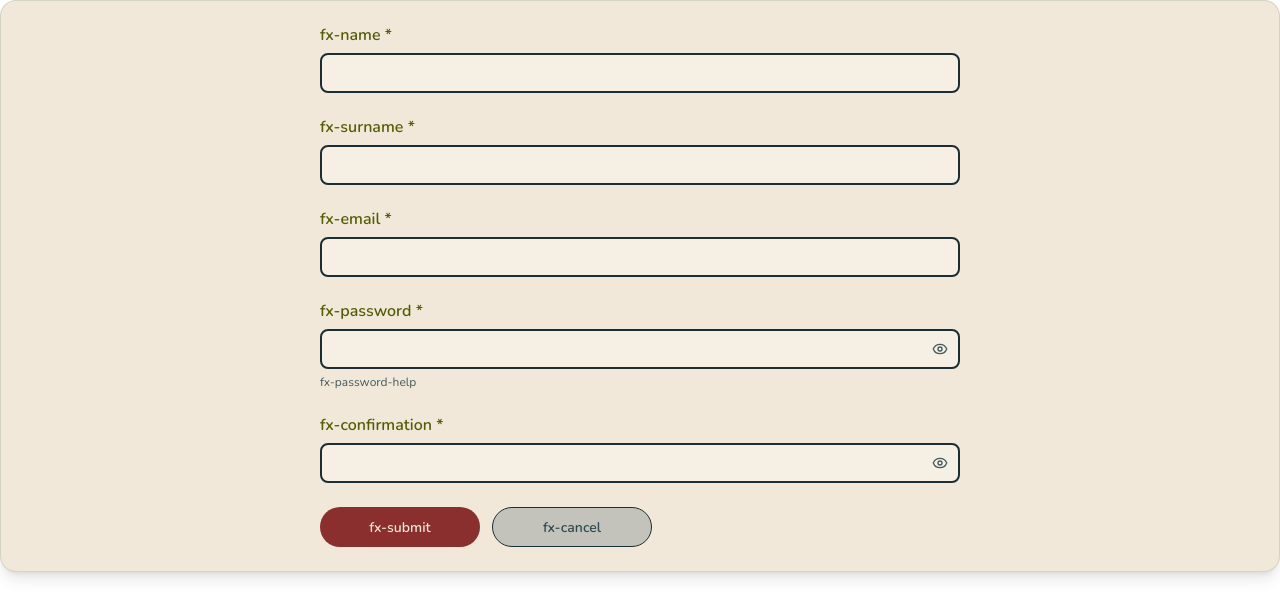
Scenario: RegisterClient — the registration result (sign-in-after-registration design.md D4) › shows the success panel when the 201 carries no token block (spec: The account is created)
This screenshot has width=1280, height=598.
Type "Ana" into the field labelled "fx-name *" at (640, 73), box [320,53,960,93]
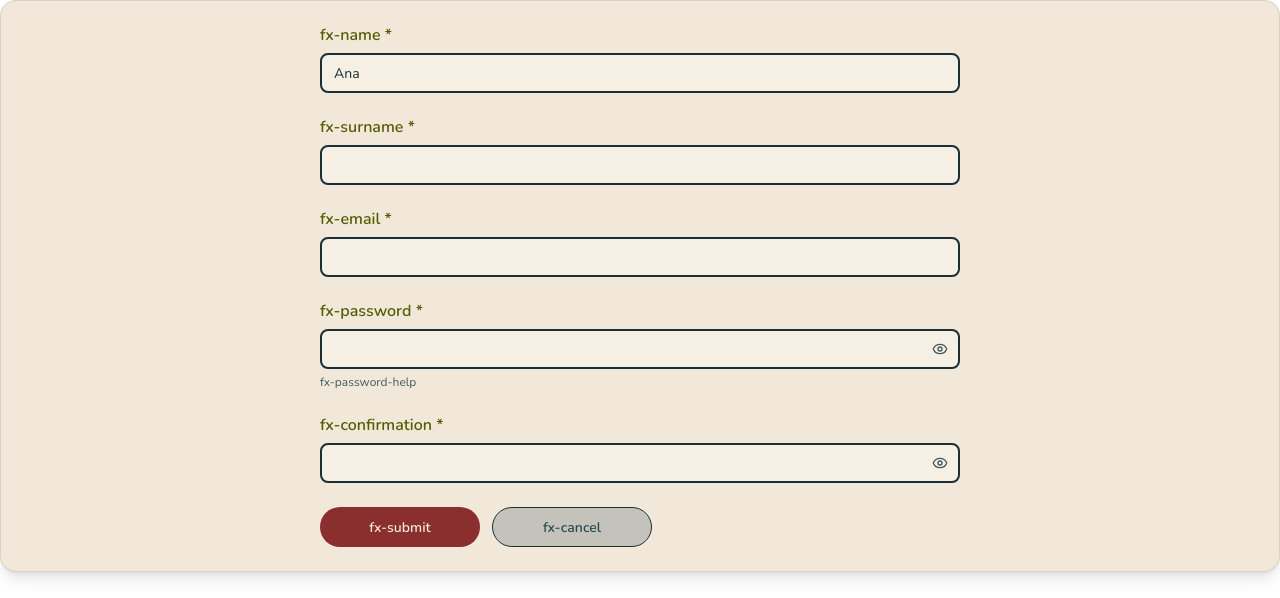
Type "López" into the field labelled "fx-surname *" at (640, 165), box [320,145,960,185]
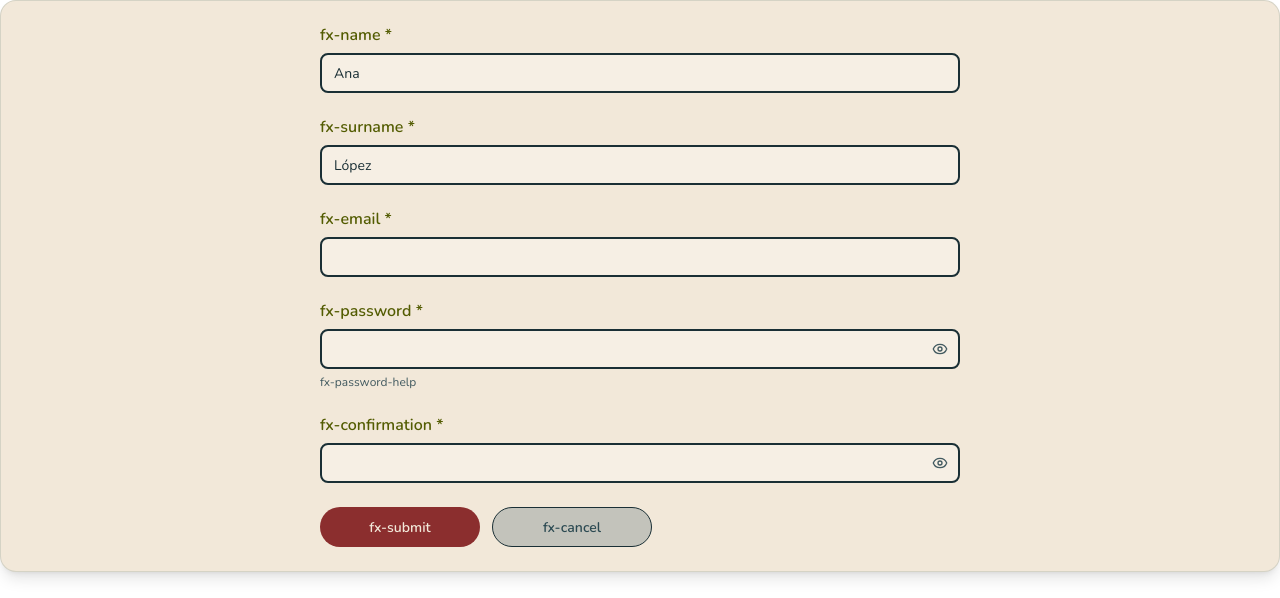
Type "ana@example.com" into the field labelled "fx-email *" at (640, 257), box [320,237,960,277]
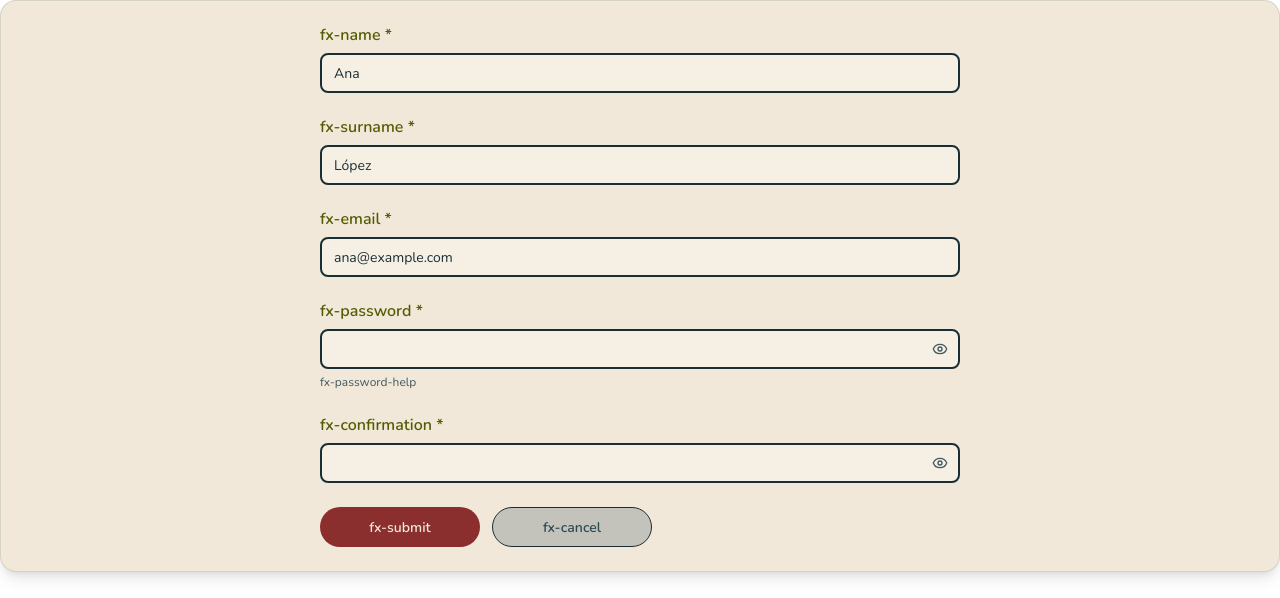
Type "Secret123" into the password field labelled "fx-password *" at (640, 349), box [320,329,960,369]
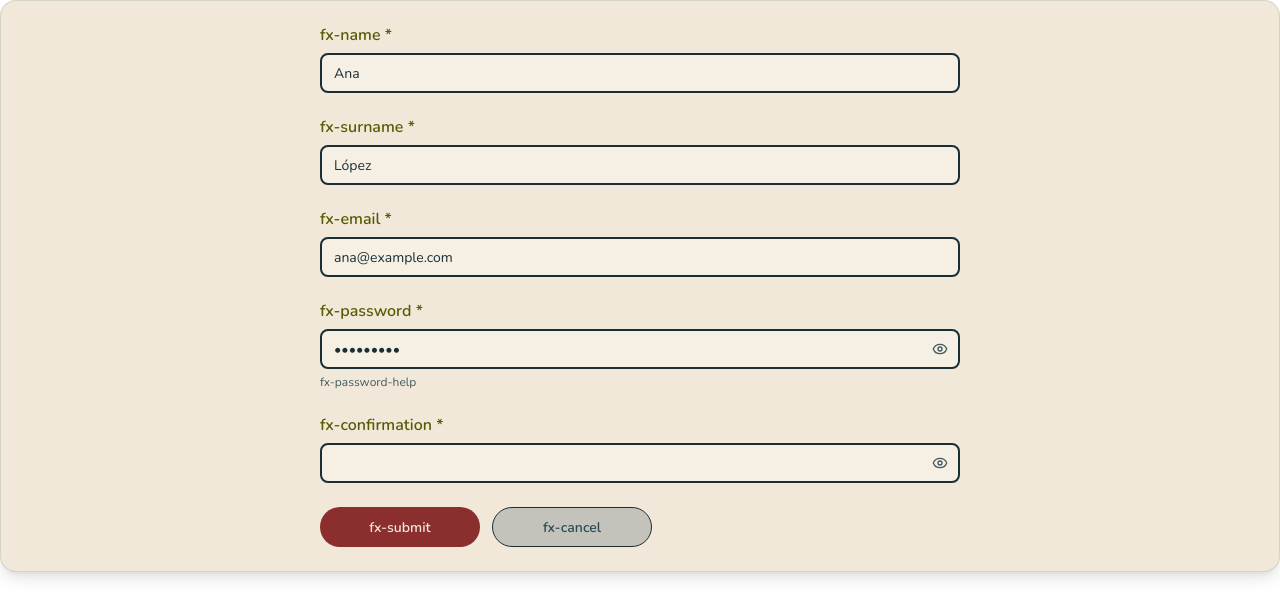
Type "Secret123" into the password field labelled "fx-confirmation *" at (640, 463), box [320,443,960,483]
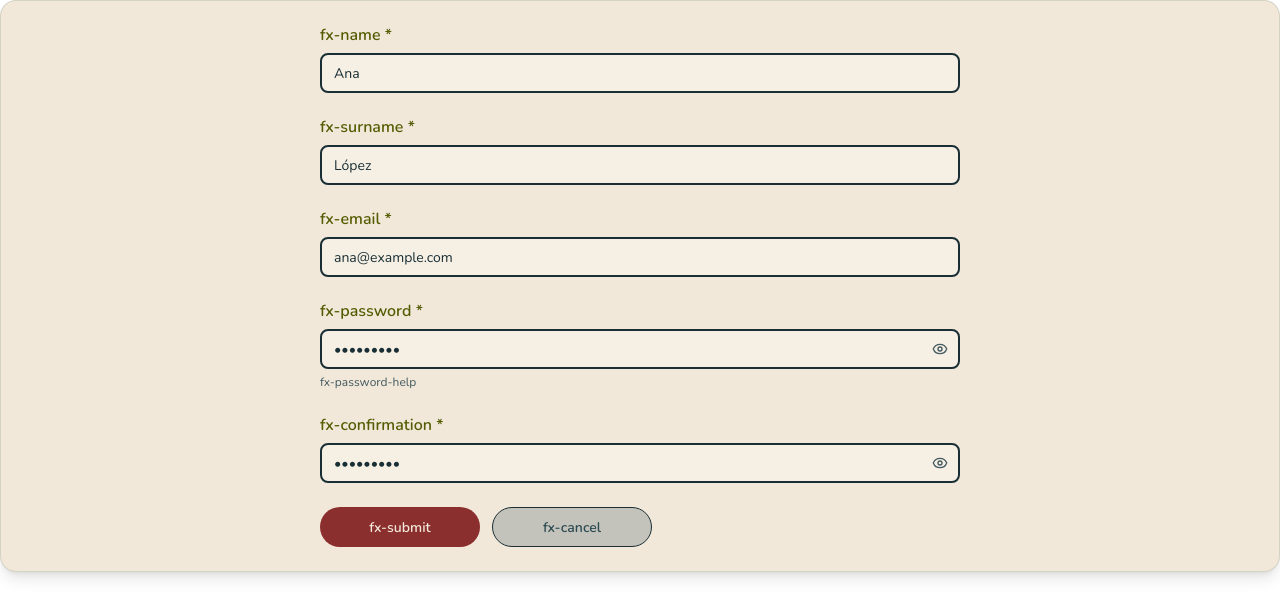
Click the button "fx-submit" at (400, 527), box [320,507,480,547]
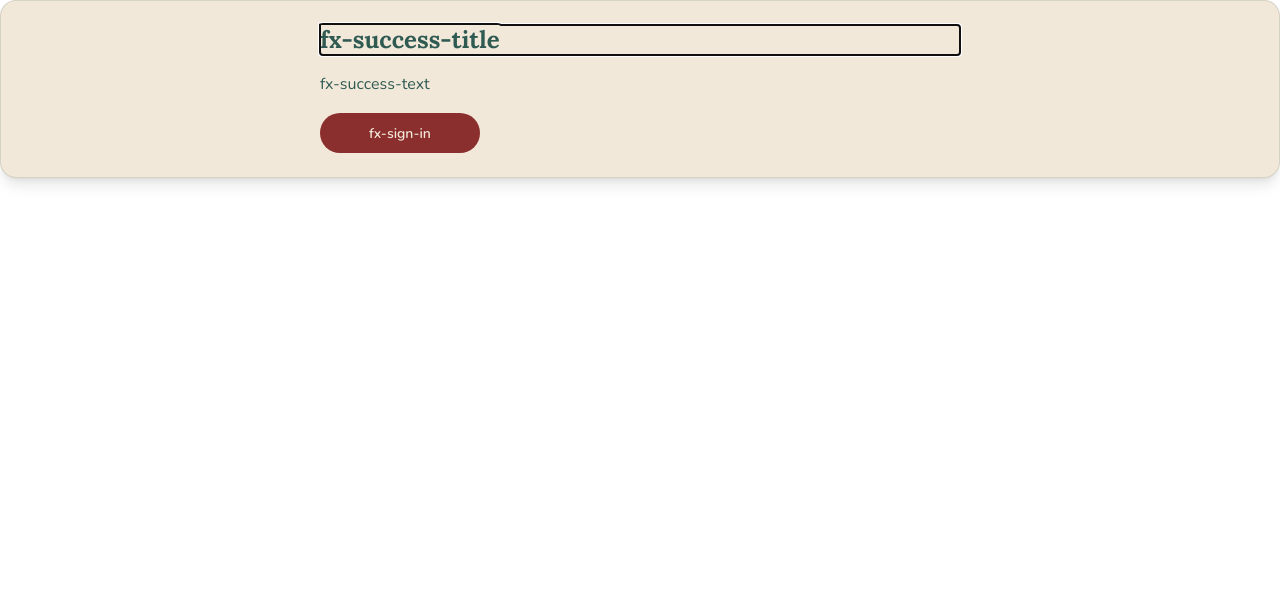
Check: the heading "fx-success-title" is shown, box [320,24,500,55]
